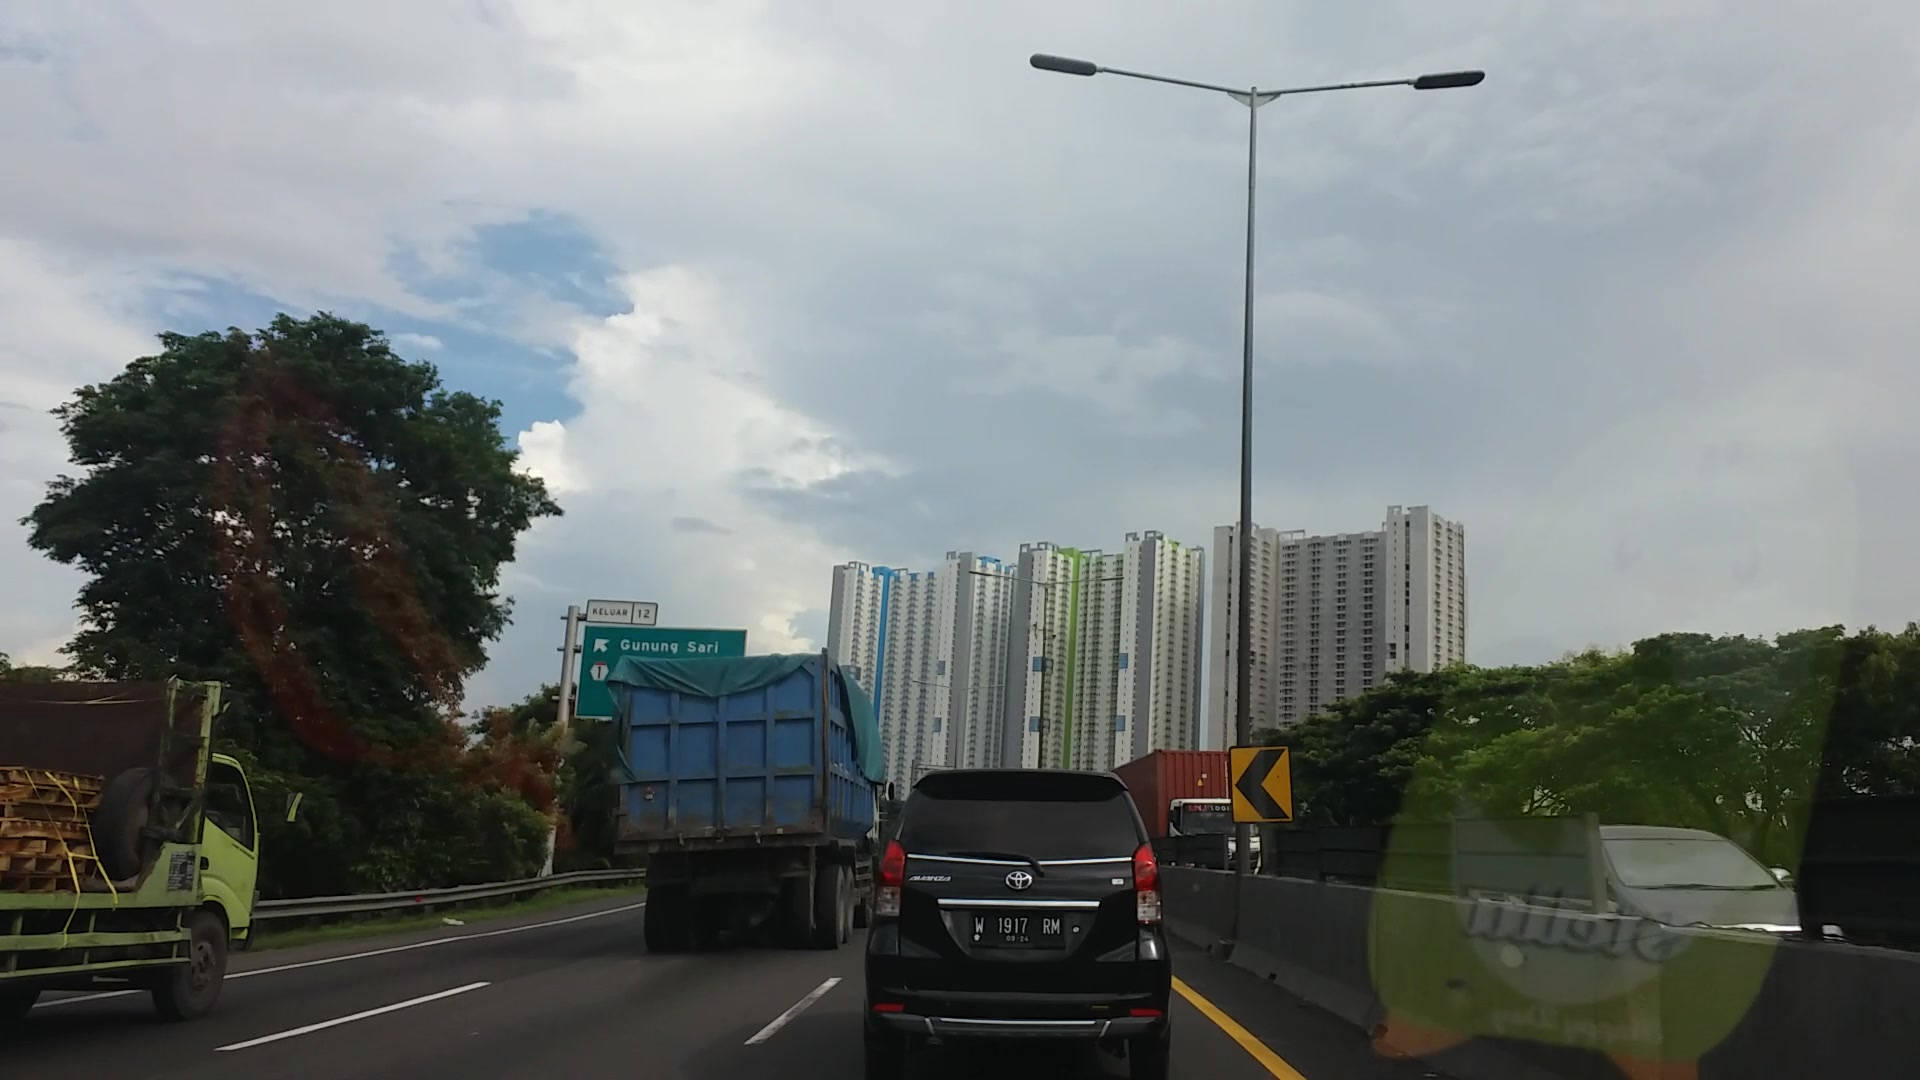plate_positive: (971, 913, 1063, 944)
